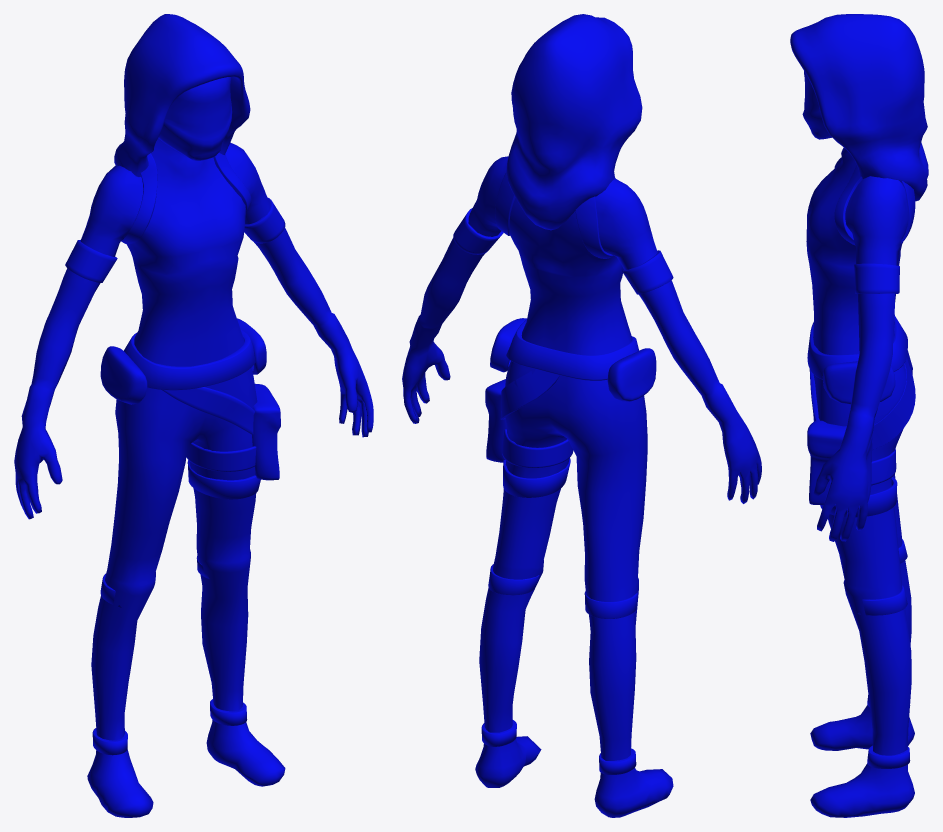
File: complete_spy.FBX
3 renders of one model, left to right at view 1: azimuth 30°, elevation 25°; view 2: azimuth 150°, elevation 25°; view 3: azimuth 270°, elevation 25°, orthographic.
Parts seen in each view (by area): view 1: Spy; view 2: Spy; view 3: Spy.
Boxes of the visible parts, x1,y1,x2,y2 form: Spy: [14, 14, 373, 817]; Spy: [402, 14, 761, 817]; Spy: [790, 14, 928, 817].
Size of the model in its own units: 31.91 by 66.93 by 11.02.
